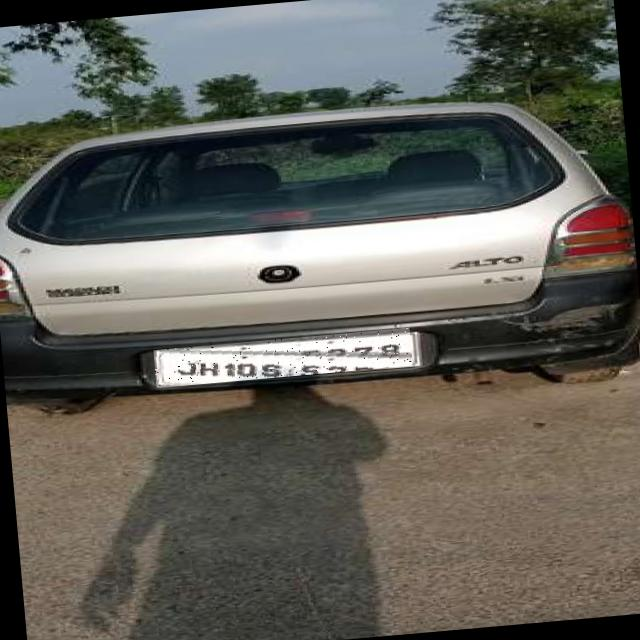Plate: (154, 329, 413, 389)
